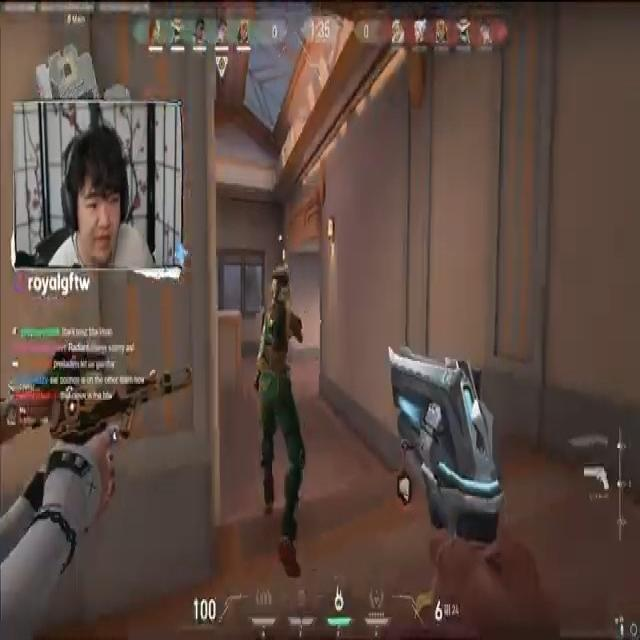ally: (244, 249, 312, 578)
